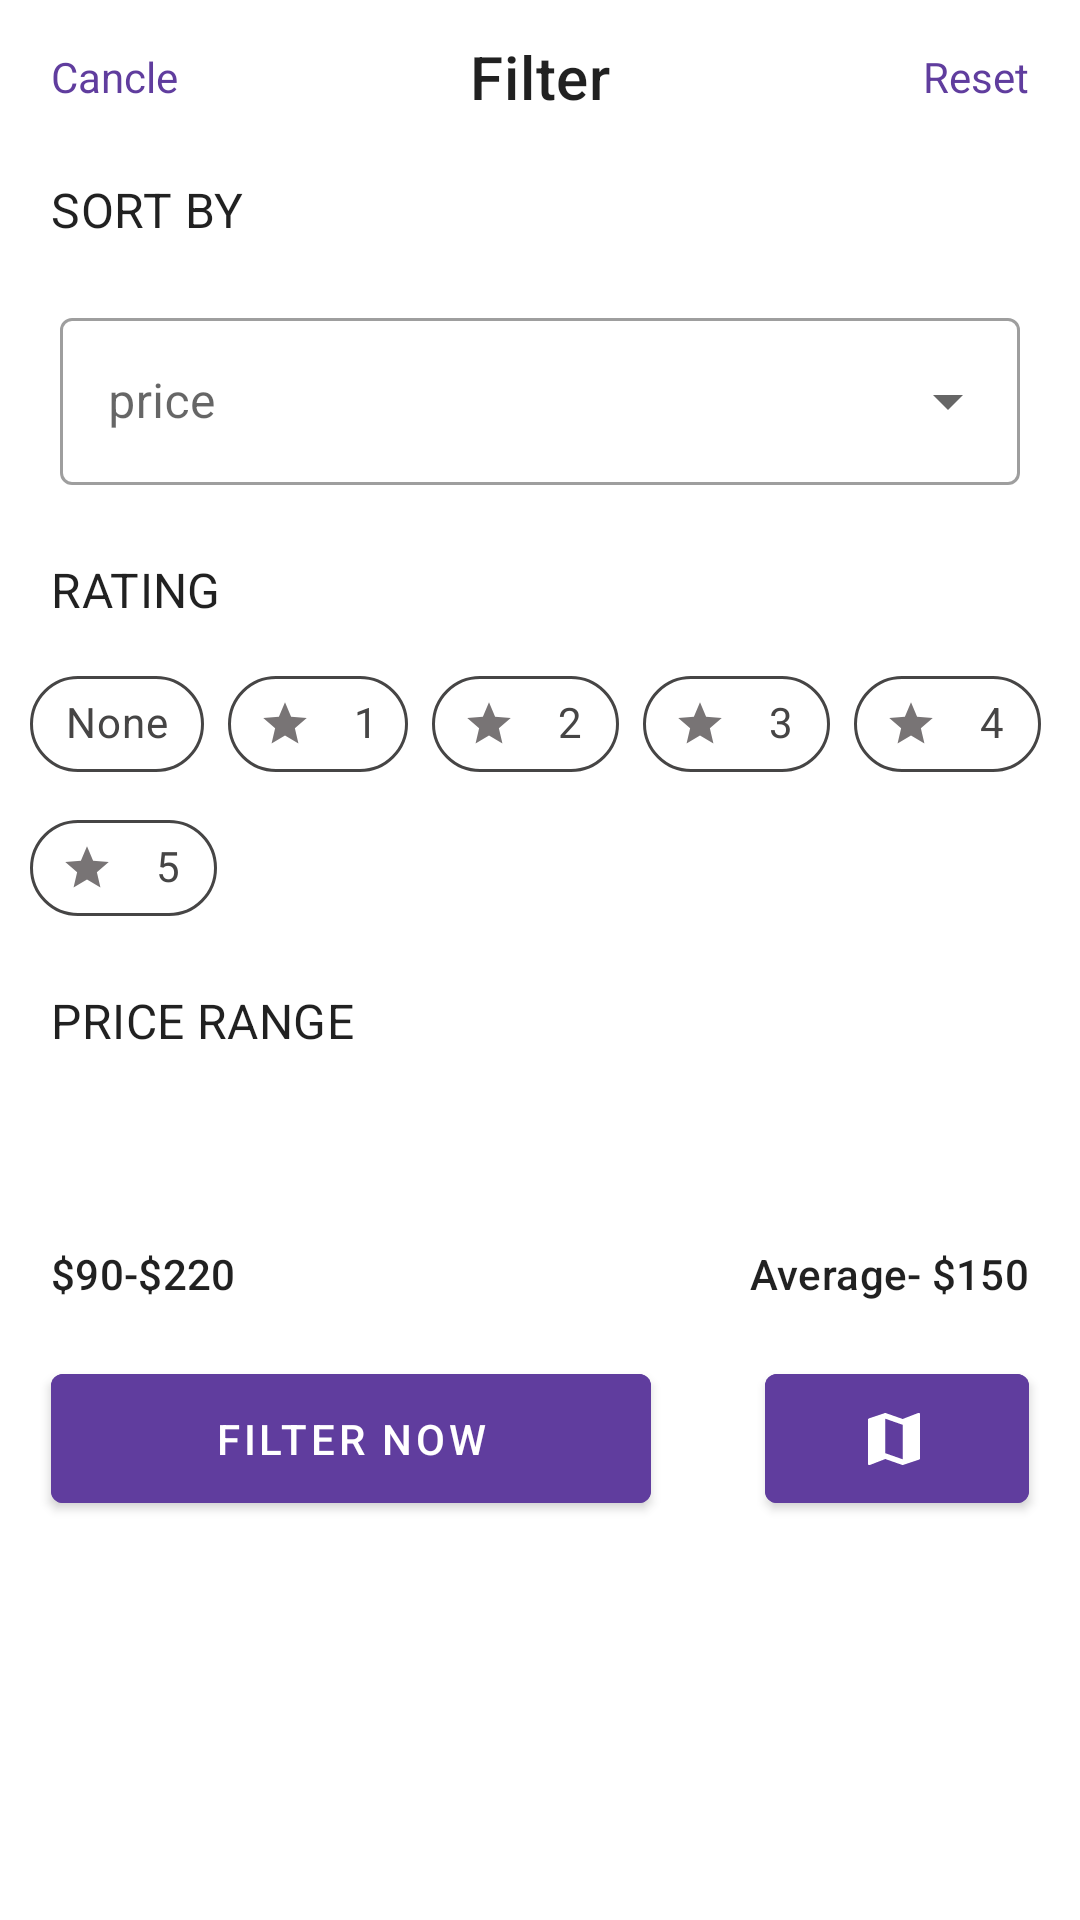

Where icons sit on this 1080x1920 app screen, as (x1, y1, x2, y2):
map: (765, 1374, 1029, 1507)
